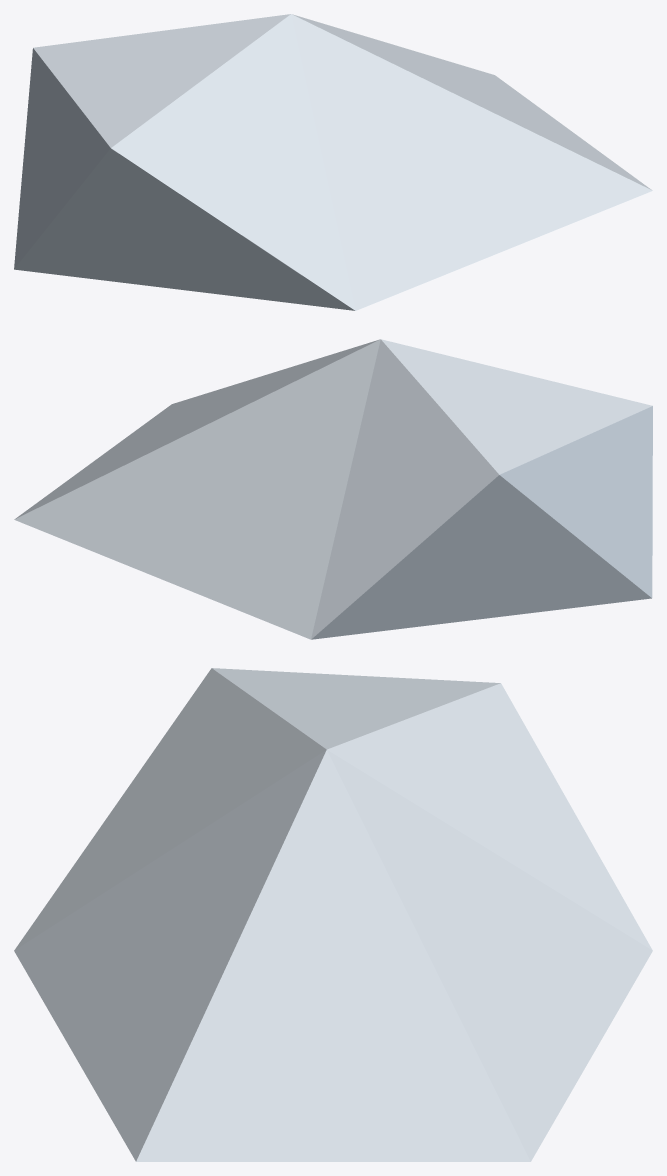
The model's file is Icemound2_Alt1.fbx.
3 views of the same model, one above another, from view 1: azimuth 30°, elevation 25°; view 2: azimuth 150°, elevation 25°; view 3: azimuth 270°, elevation 25° (orthographic). The views are drawn at different scales.
Parts seen in each view (by area): view 1: Icemound2_Alt1; view 2: Icemound2_Alt1; view 3: Icemound2_Alt1.
Boxes of the visible parts, x1,y1,x2,y2 form: Icemound2_Alt1: [14, 14, 652, 310]; Icemound2_Alt1: [14, 339, 652, 639]; Icemound2_Alt1: [14, 668, 652, 1161].
Size of the model in its own units: 1.46 by 0.4751 by 1.16.
